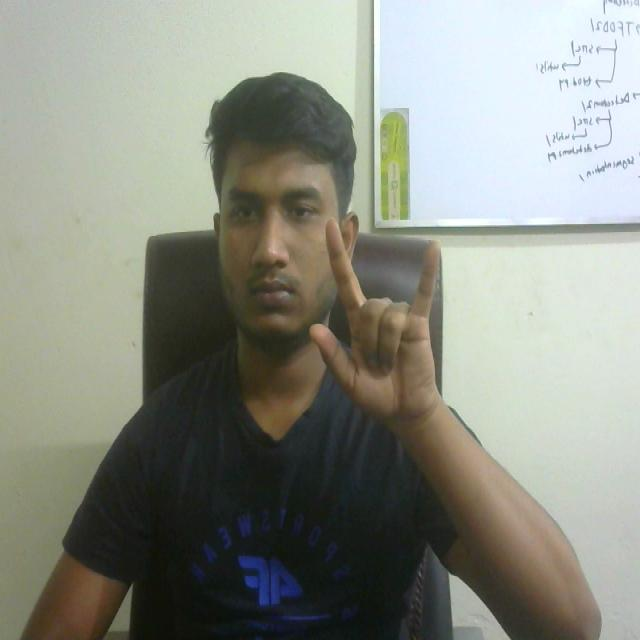B: (305, 222, 456, 449)
